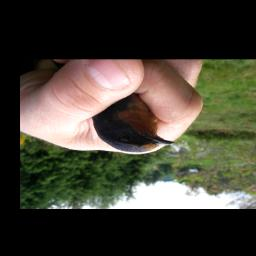Swallow: (90, 93, 177, 154)
